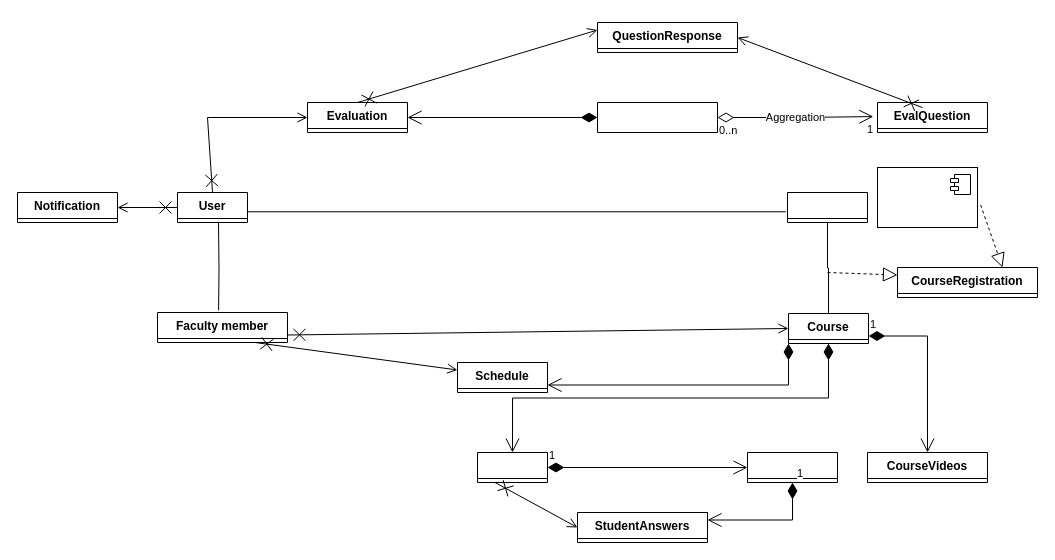
The diagram is 1055 pixels wide and 560 high, and some of its shapes have lost their labels. The centre of each missing label's shape, as x and y in pixels:
Binary Association Class: pixel 927 197
Exam: pixel 512 467
Questionnaire: pixel 657 117
Questions: pixel 792 467
Student: pixel 827 207
